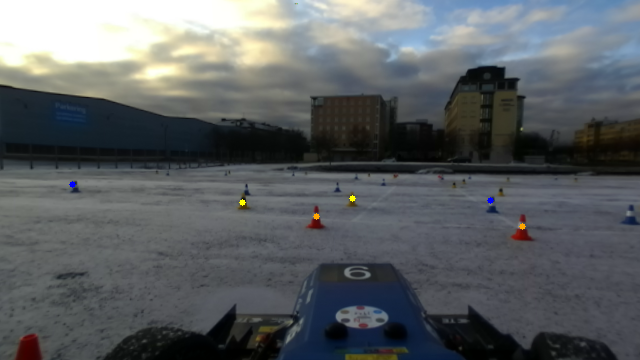blue: (620, 202, 640, 224), (482, 195, 501, 216)
orange: (509, 212, 534, 243), (304, 202, 326, 230)
yellow: (234, 191, 252, 211), (344, 191, 359, 209)
